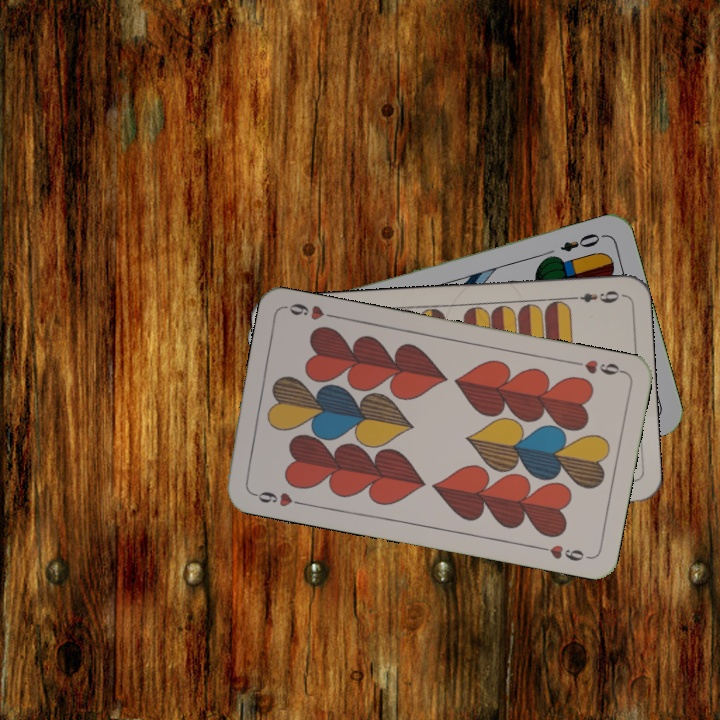E9: (565, 286, 622, 306)
EO: (556, 229, 607, 255)
H9: (568, 355, 627, 378), (248, 487, 306, 510)
